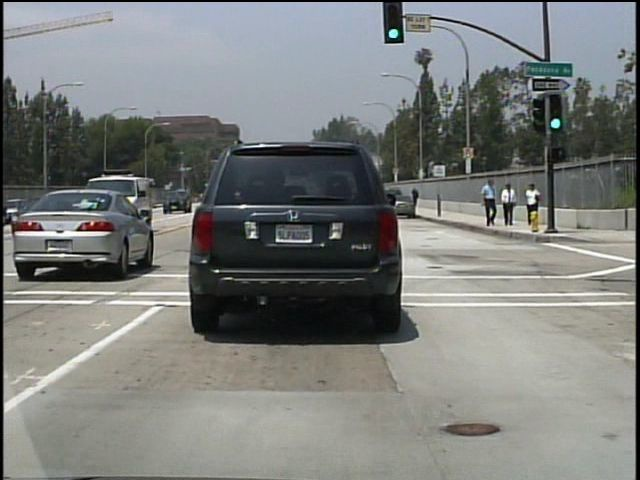person: (481, 179, 500, 232), (500, 180, 519, 227), (524, 181, 541, 213), (410, 187, 421, 210)
